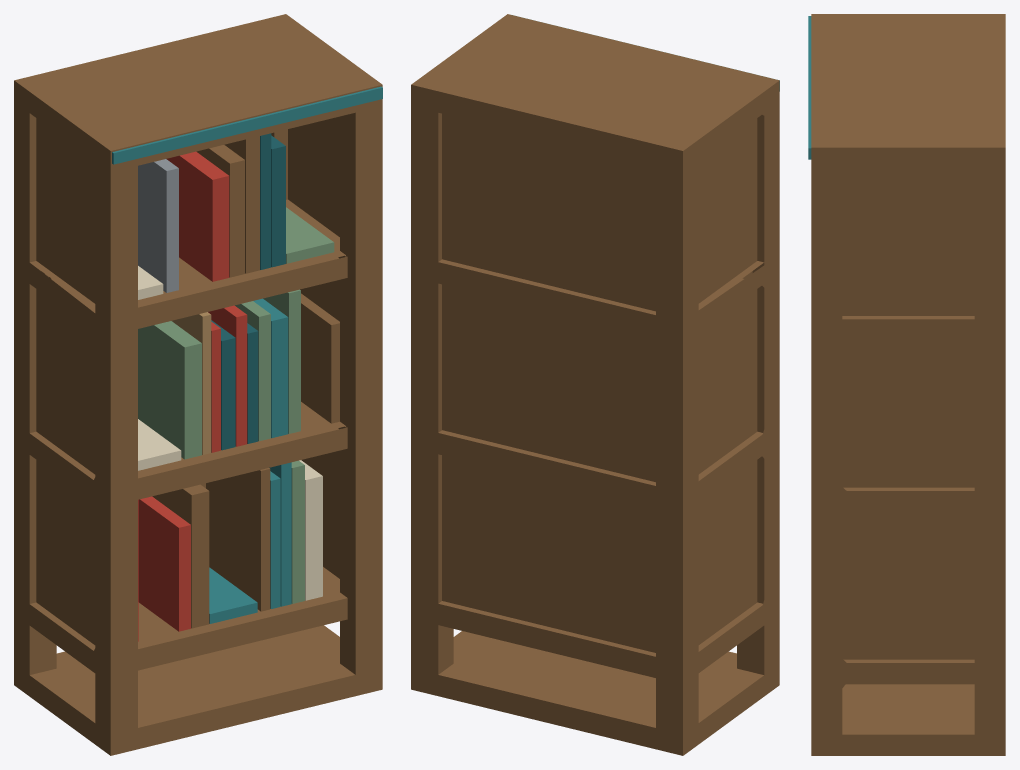
The model's file is bookcaseClosed.glb.
3 views of the same model, side by side, from view 1: azimuth 30°, elevation 25°; view 2: azimuth 150°, elevation 25°; view 3: azimuth 270°, elevation 25° (orthographic).
Visible parts, largest first — view 1: bookcaseClosed(Clone); view 2: bookcaseClosed(Clone); view 3: bookcaseClosed(Clone).
Part boxes in pixels (x1,y1,x2,y2): bookcaseClosed(Clone): (14,14,382,755); bookcaseClosed(Clone): (411,14,779,755); bookcaseClosed(Clone): (808,14,1005,755).
Bounding box in the file's own units: 0.4 × 0.85 × 0.25.
